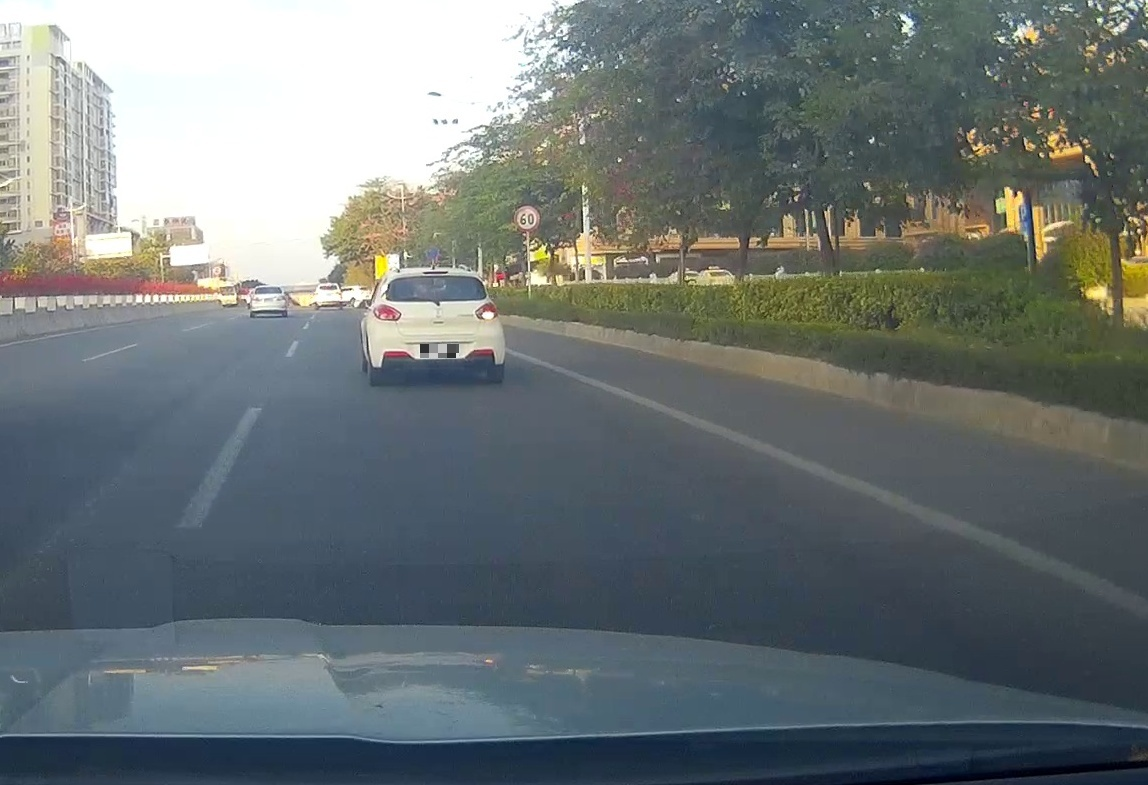L_light: (372, 303, 402, 321), (251, 297, 261, 302)
R_light: (474, 301, 499, 320), (276, 295, 285, 301)
T_light: (423, 270, 449, 274), (264, 286, 271, 288)
day-no: (249, 284, 287, 318)
day-right: (367, 266, 506, 384)
plate_1: (420, 344, 459, 358)
